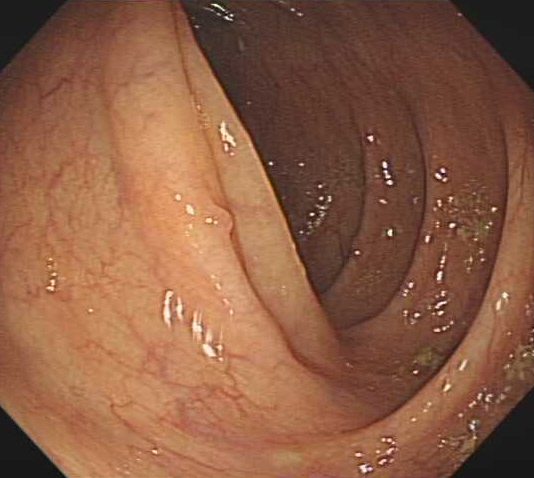adenoma: (192, 198, 236, 238)
